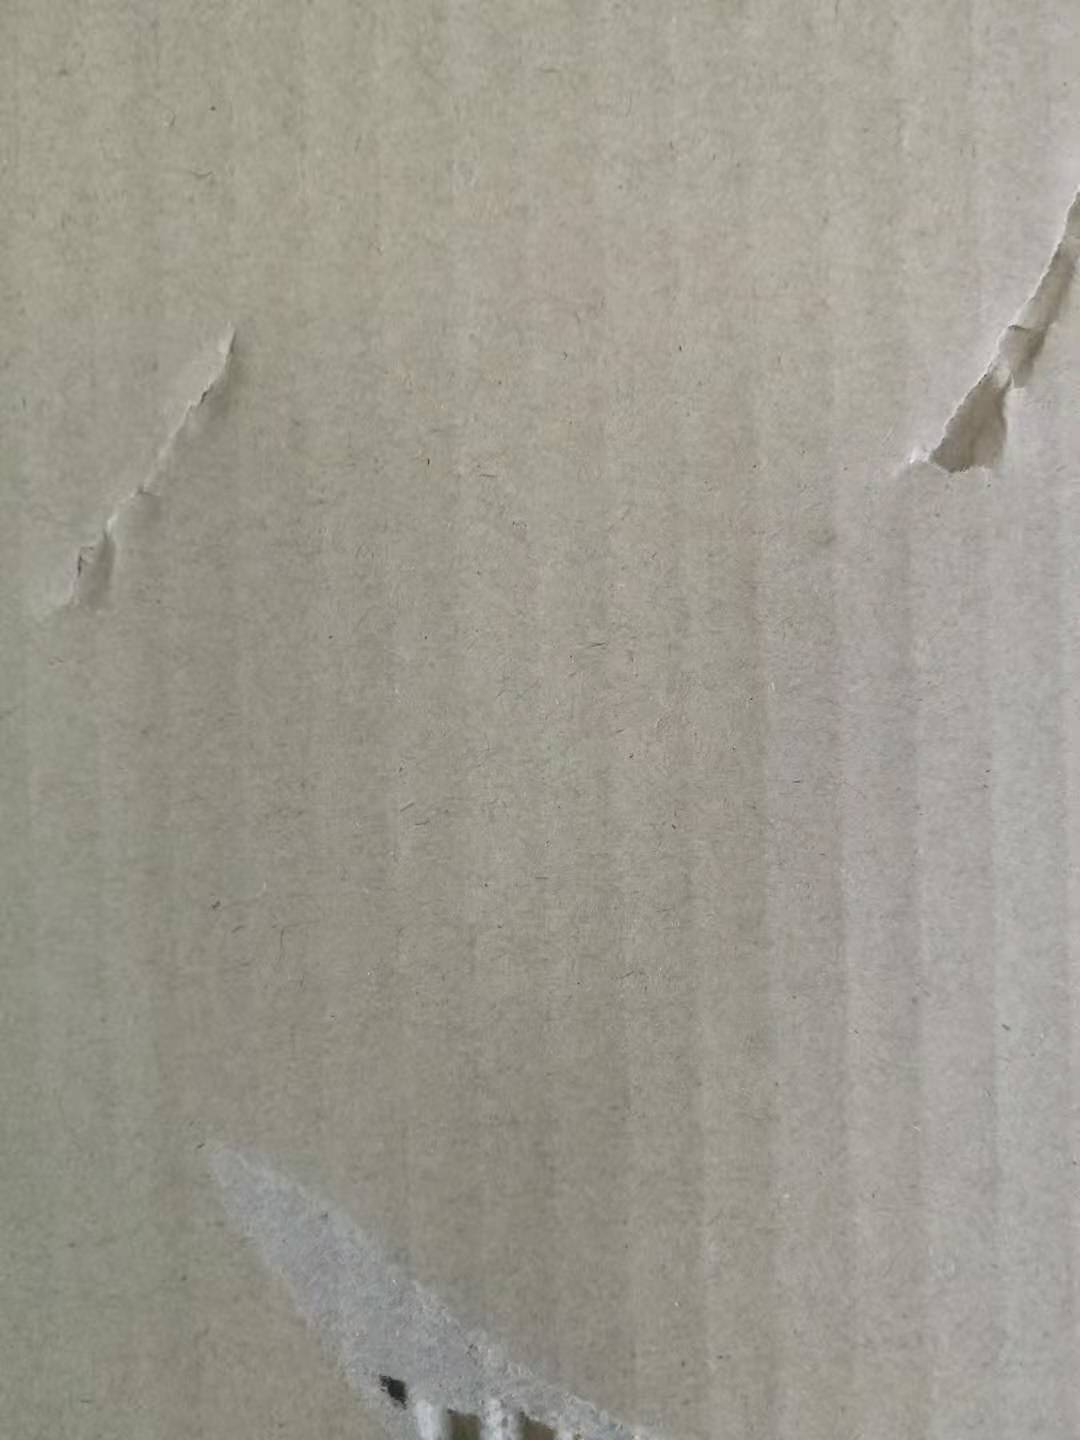defect: (183, 1106, 733, 1440), (9, 293, 282, 664), (857, 162, 1080, 535)
